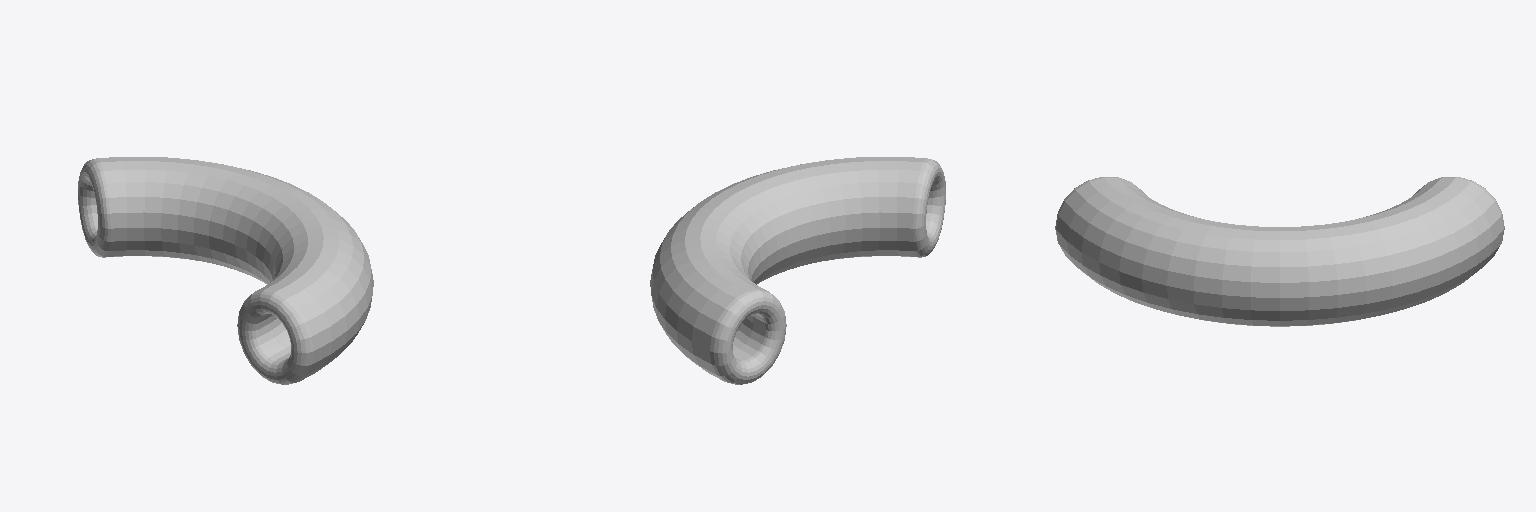
Rendered from kraftNoodle_01.obj.
The picture shows the model from 3 angles: view 1: azimuth 30°, elevation 25°; view 2: azimuth 150°, elevation 25°; view 3: azimuth 270°, elevation 25°; orthographic projection.
Visible parts, largest first — view 1: pPipe1; view 2: pPipe1; view 3: pPipe1.
Part boxes in pixels (x1,y1,x2,y2): pPipe1: (78, 157, 373, 384); pPipe1: (650, 157, 945, 384); pPipe1: (1055, 177, 1504, 326).
Size of the model in its own units: 3.97 by 2 by 8.95.